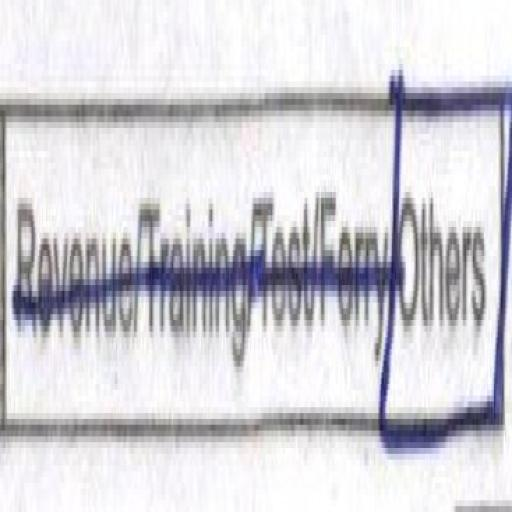check: (383, 44, 512, 504)
